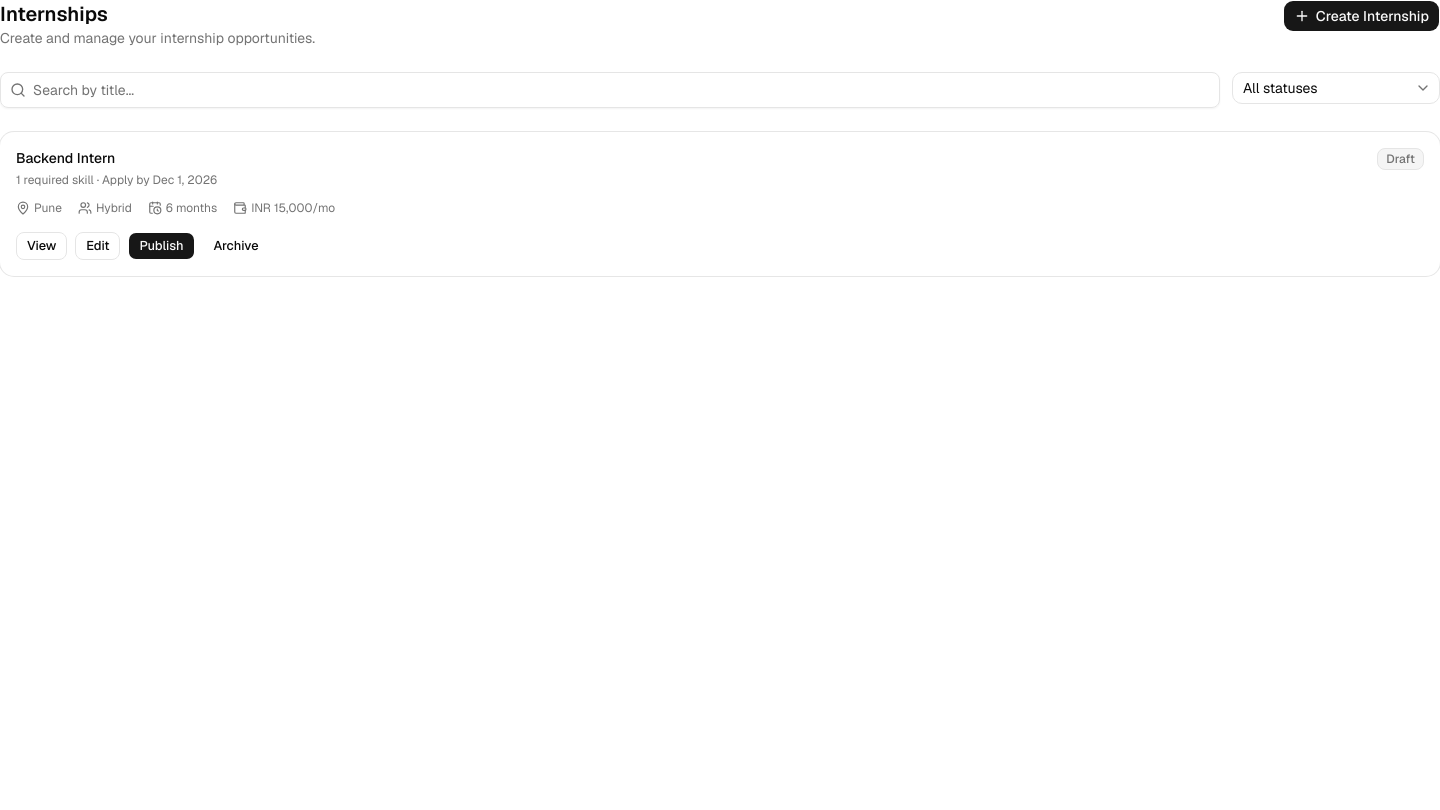
Test: InternshipsListView › publishes an internship through the confirmation dialog
Check: the link "Backend Intern" is shown, box [16, 149, 115, 167]
Click the button "Publish": click(162, 246) [128, 232, 195, 260]
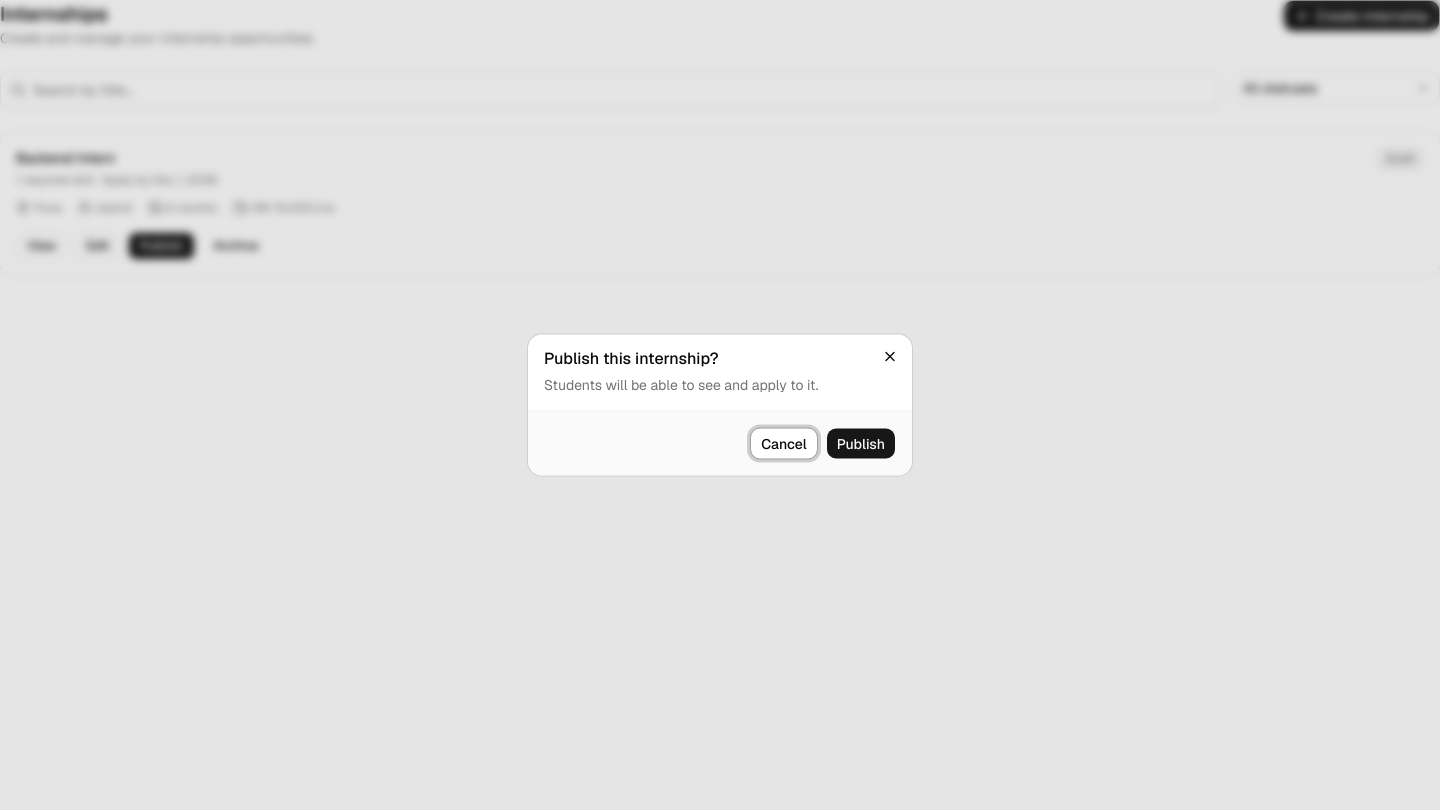
Click the button "Publish": click(861, 444) [826, 428, 896, 460]
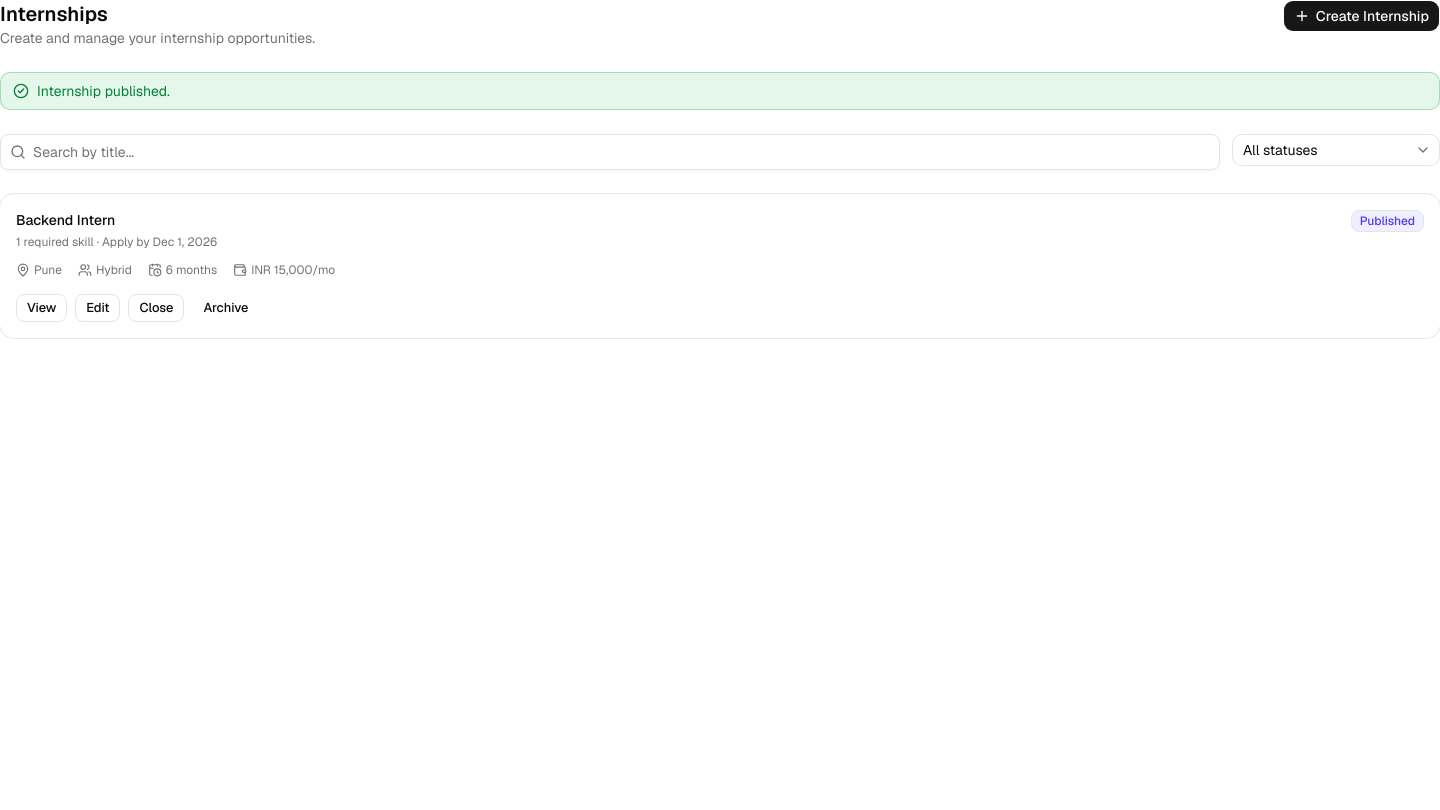
Check: the text "Internship published." is shown, box [37, 81, 170, 101]
